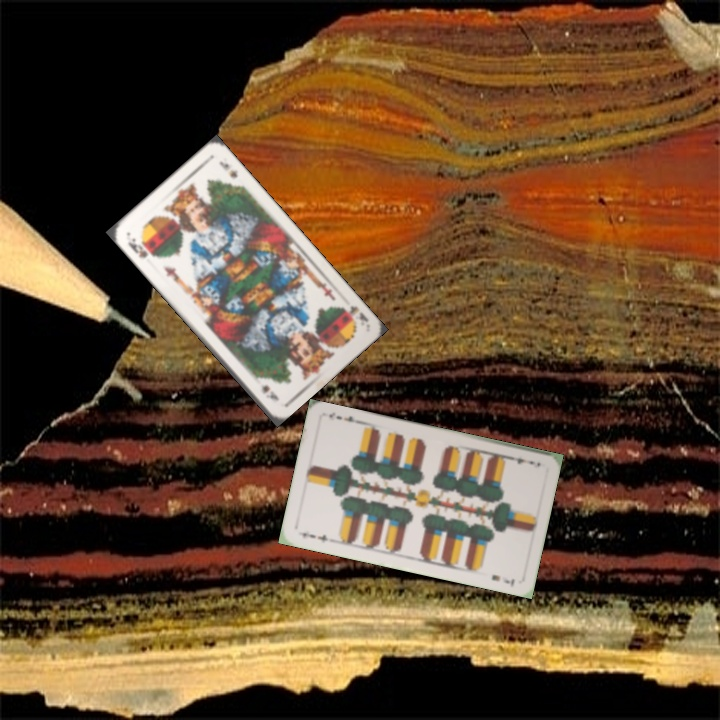E7: (298, 527, 330, 546), (504, 452, 537, 467)
SK: (338, 301, 371, 326), (123, 234, 151, 261)
